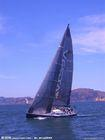fanchuan: (24, 23, 81, 124)
